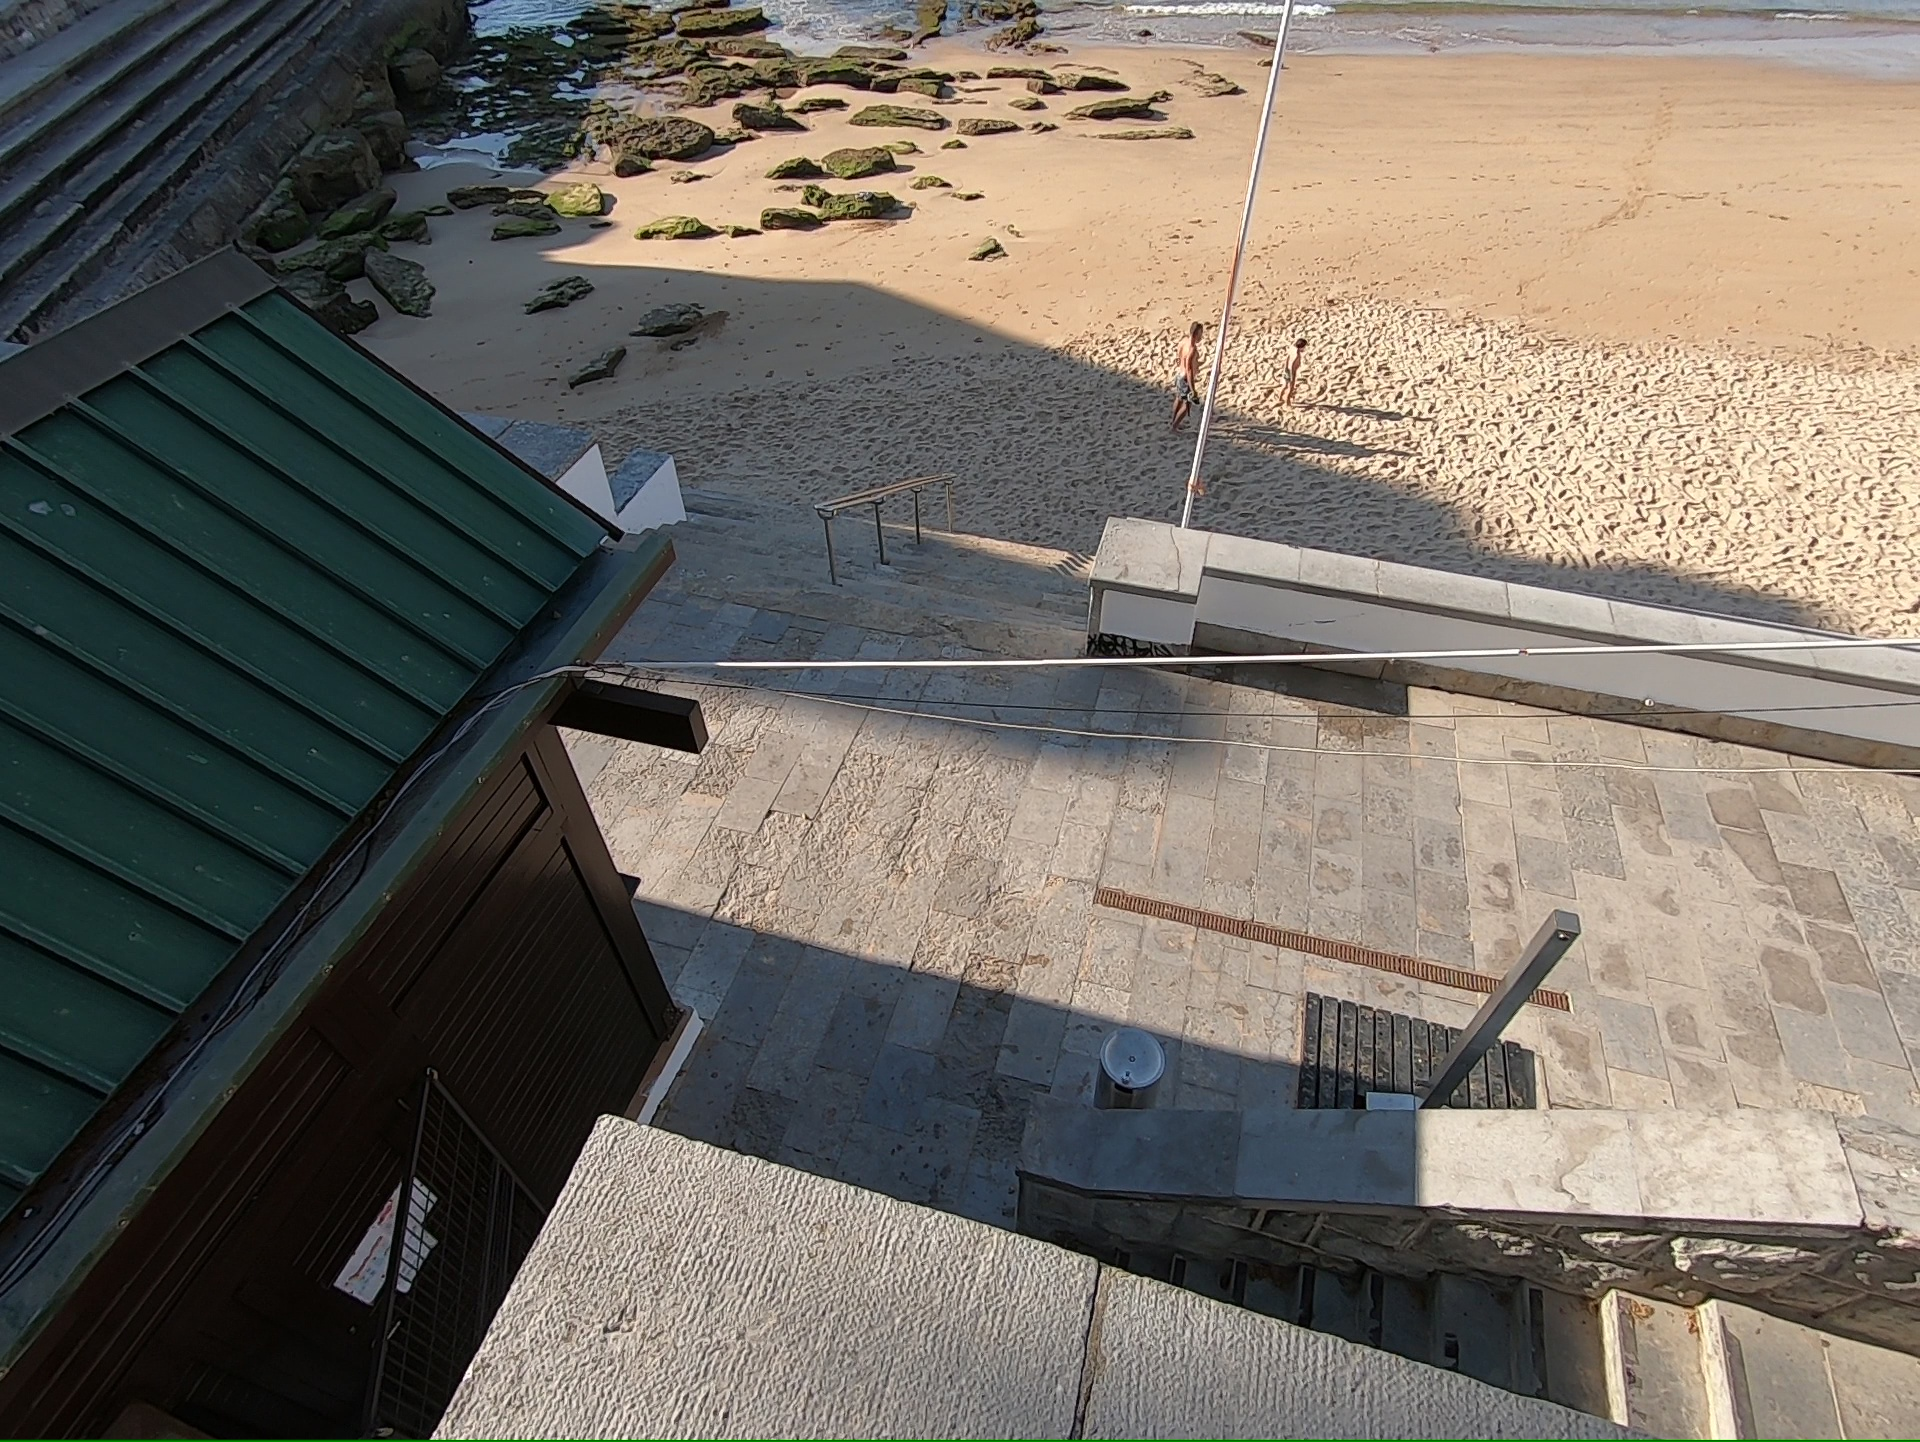person: (1168, 321, 1206, 425), (1283, 335, 1308, 404)
